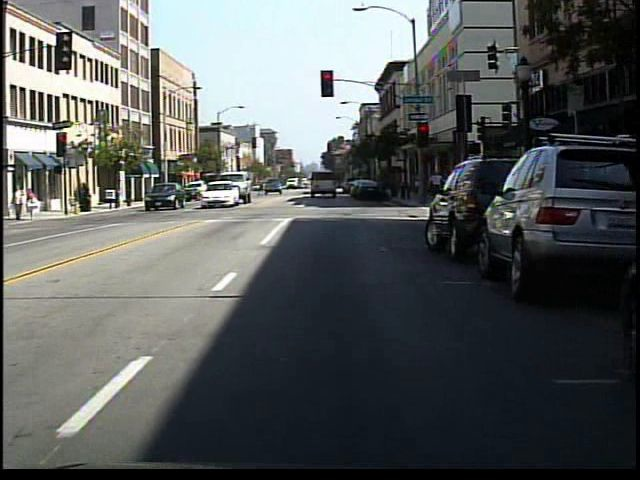person: (10, 183, 28, 226), (25, 185, 42, 220)
